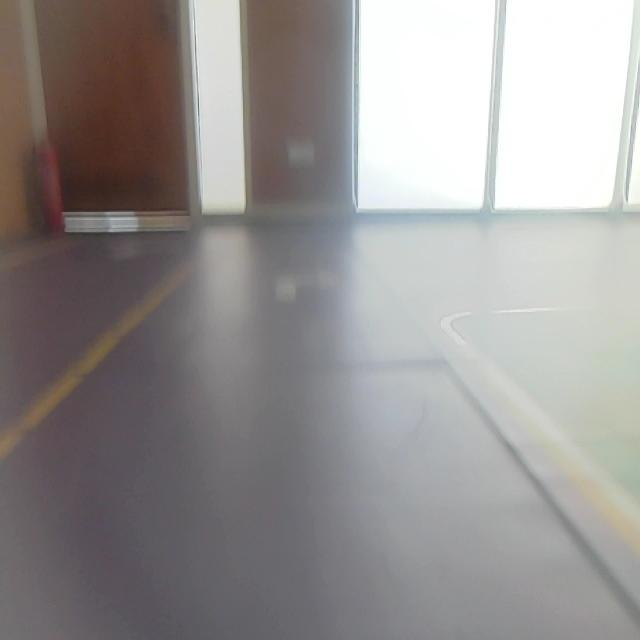left_lane: (0, 263, 192, 460)
right_lane: (437, 325, 640, 550)
